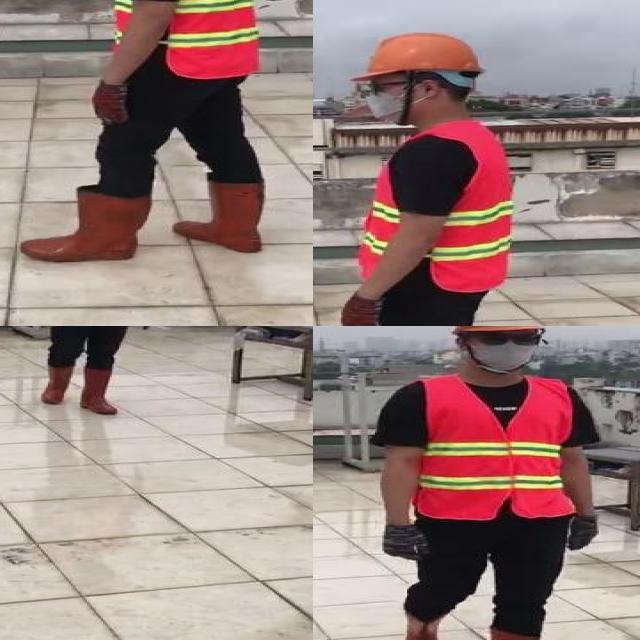boots: (13, 193, 148, 264), (175, 182, 268, 254), (78, 366, 121, 416), (41, 363, 73, 406), (401, 610, 446, 640)
face_mask: (468, 328, 550, 368), (355, 74, 416, 125)
glasses: (468, 327, 550, 350)
hand_glove: (382, 524, 434, 560), (90, 82, 129, 123), (564, 515, 602, 550), (343, 296, 384, 326), (134, 326, 156, 334)
head_helmet: (346, 30, 487, 84)
person: (313, 26, 609, 326), (373, 326, 607, 640), (16, 0, 288, 270), (22, 326, 163, 419)
vest: (362, 124, 516, 290), (407, 377, 574, 519), (109, 0, 260, 79)
